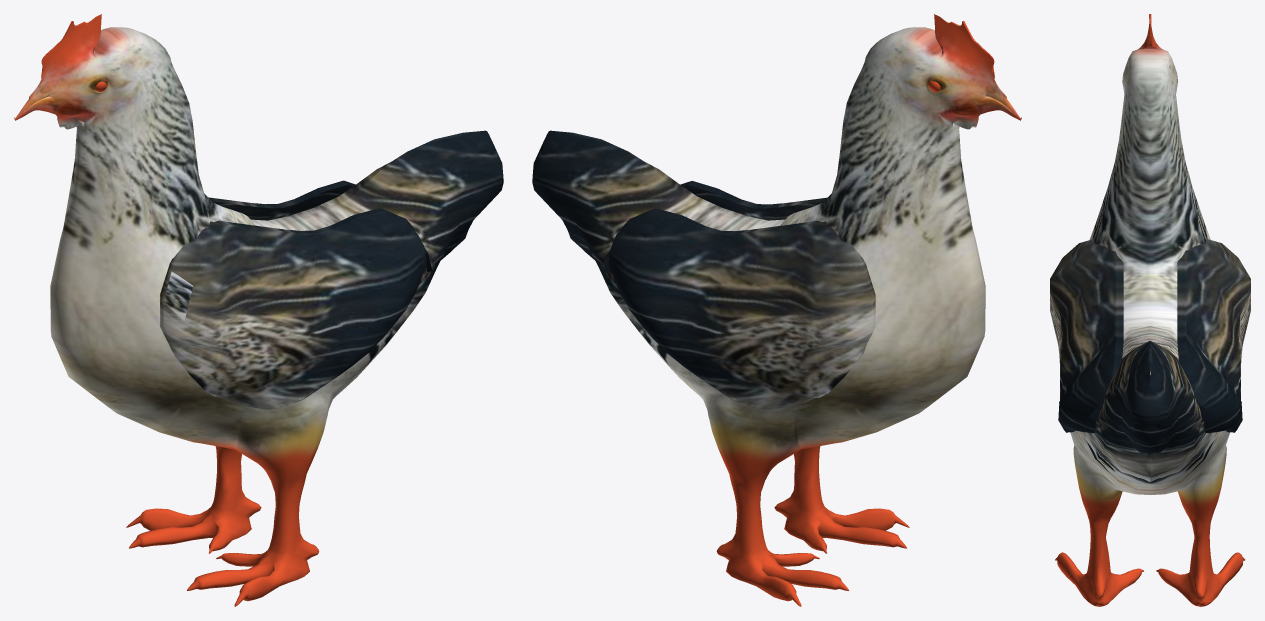
Rendered from chicken.glb.
The picture shows the model from 3 angles, left to right: view 1: azimuth 30°, elevation 25°; view 2: azimuth 150°, elevation 25°; view 3: azimuth 270°, elevation 25°; orthographic projection. The views are drawn at different scales.
Visible parts, largest first — view 1: _chicken3; view 2: _chicken3; view 3: _chicken3.
Boxes of the visible parts, <box> form: _chicken3: <box>14,14,503,606</box>; _chicken3: <box>532,14,1021,606</box>; _chicken3: <box>1050,14,1250,606</box>.
Bounding box in the file's own units: 0.3482 × 0.3964 × 0.1427.
Materials: 3 (3 with a texture image).
